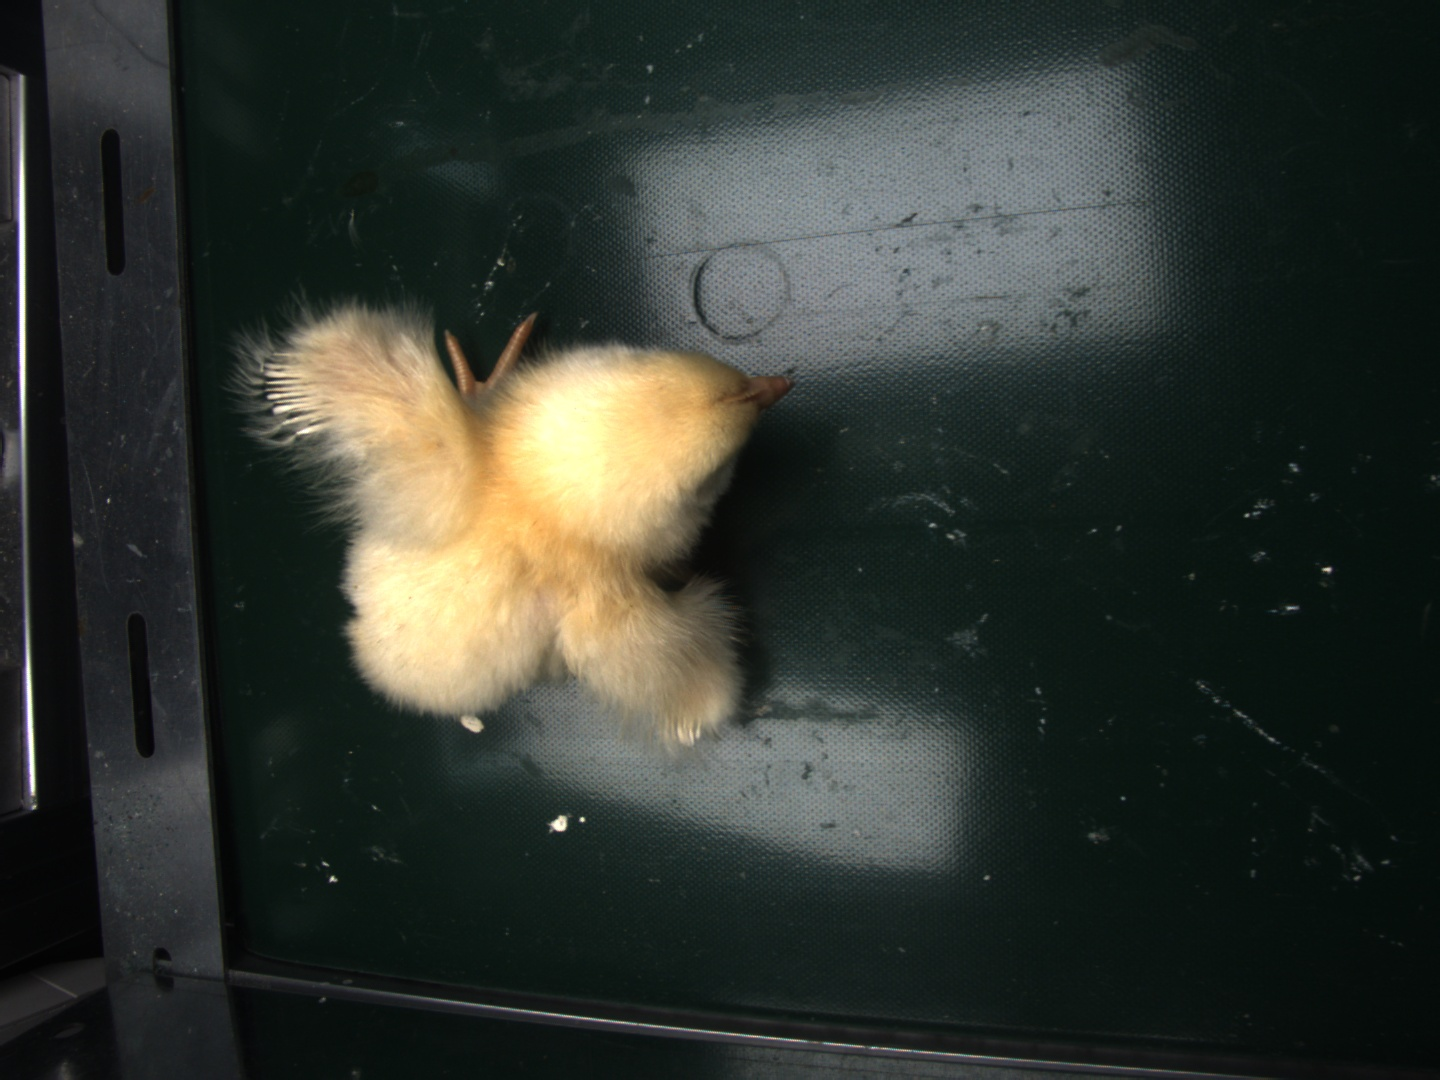male: (266, 353, 325, 439)
